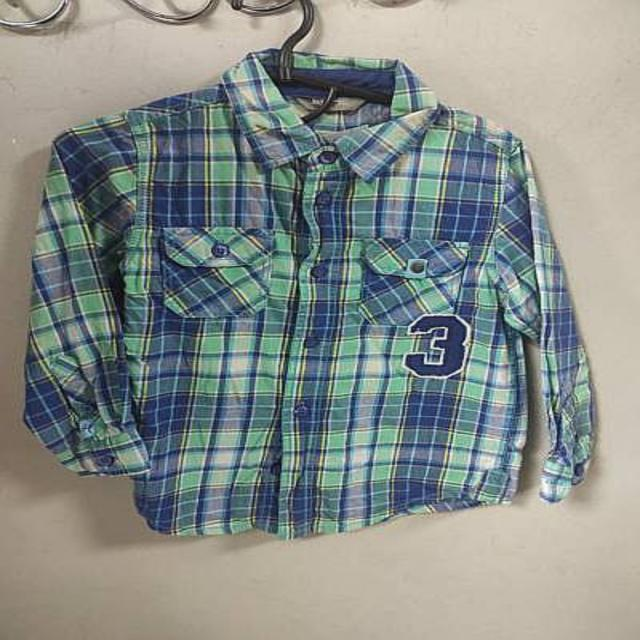SHIRT: (9, 42, 616, 544)
